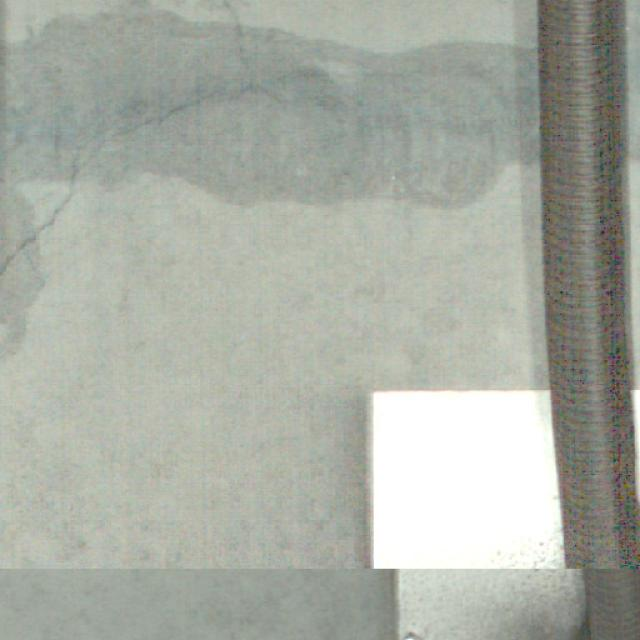Network: (0, 0, 332, 281)
